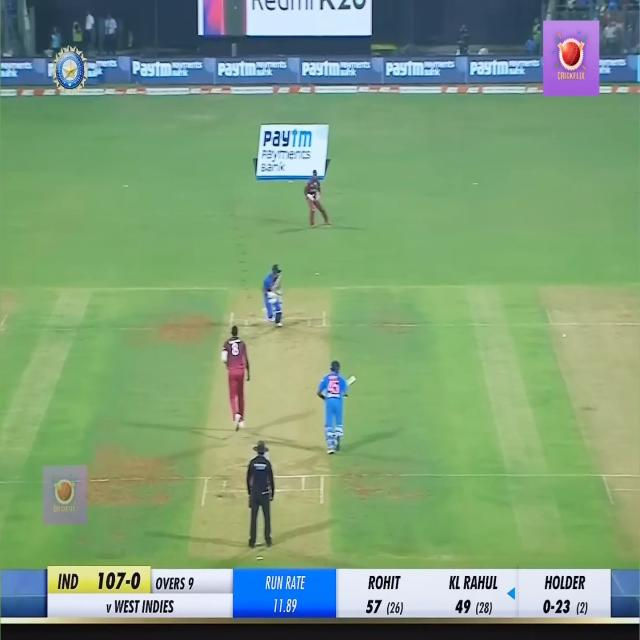fully_visible: (260, 124, 312, 150), (130, 57, 174, 84), (469, 54, 511, 82), (216, 56, 256, 80), (300, 61, 344, 82), (385, 62, 425, 83)
